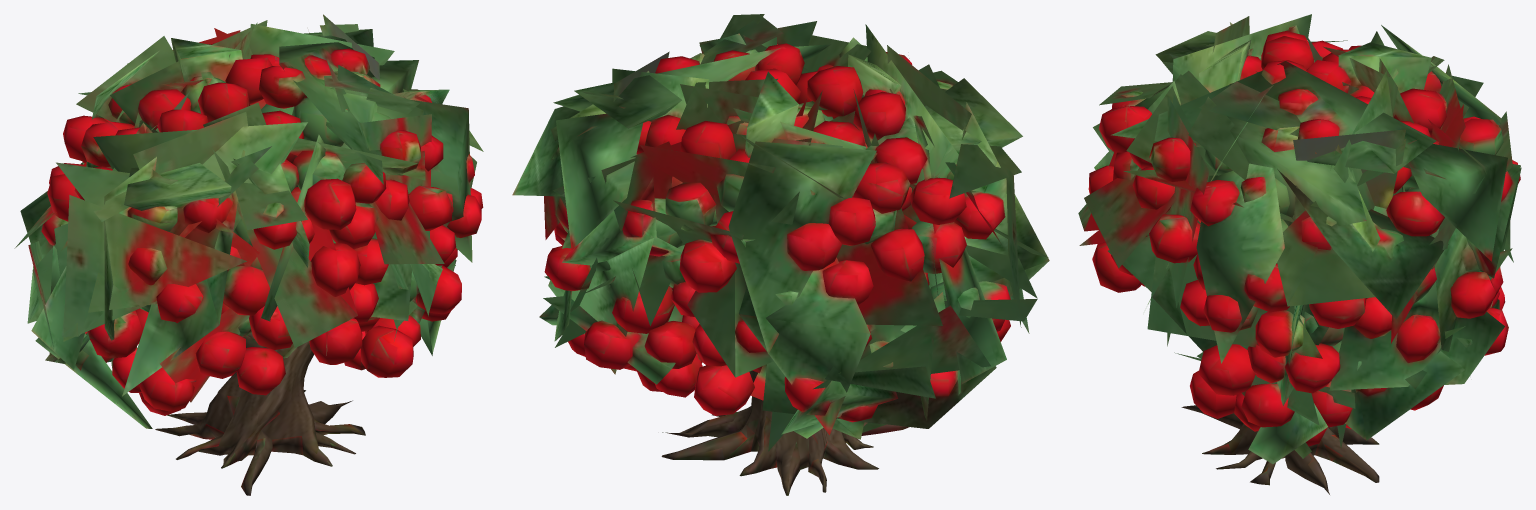
The model's file is appletree.glb.
3 renders of one model, left to right at view 1: azimuth 30°, elevation 25°; view 2: azimuth 150°, elevation 25°; view 3: azimuth 270°, elevation 25°, orthographic. The views are drawn at different scales.
Size of the model in its own units: 0.958 by 0.8022 by 0.8296.
1 material, 1 textured.
